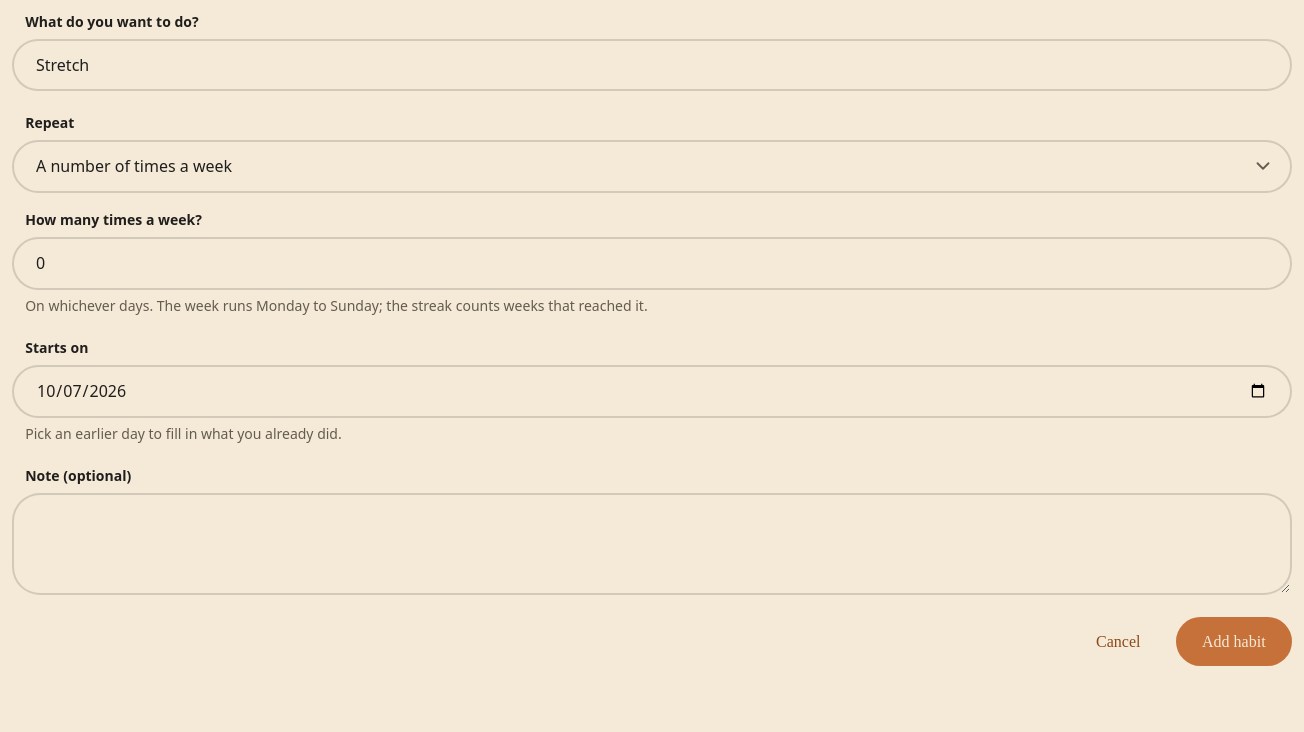
Test: HabitForm: the repeat rule › does not send timesPerWeek with How many times a week? and says why
Click the button "Add habit". click: coordinates (1234, 642)
box: [1176,617,1292,666]
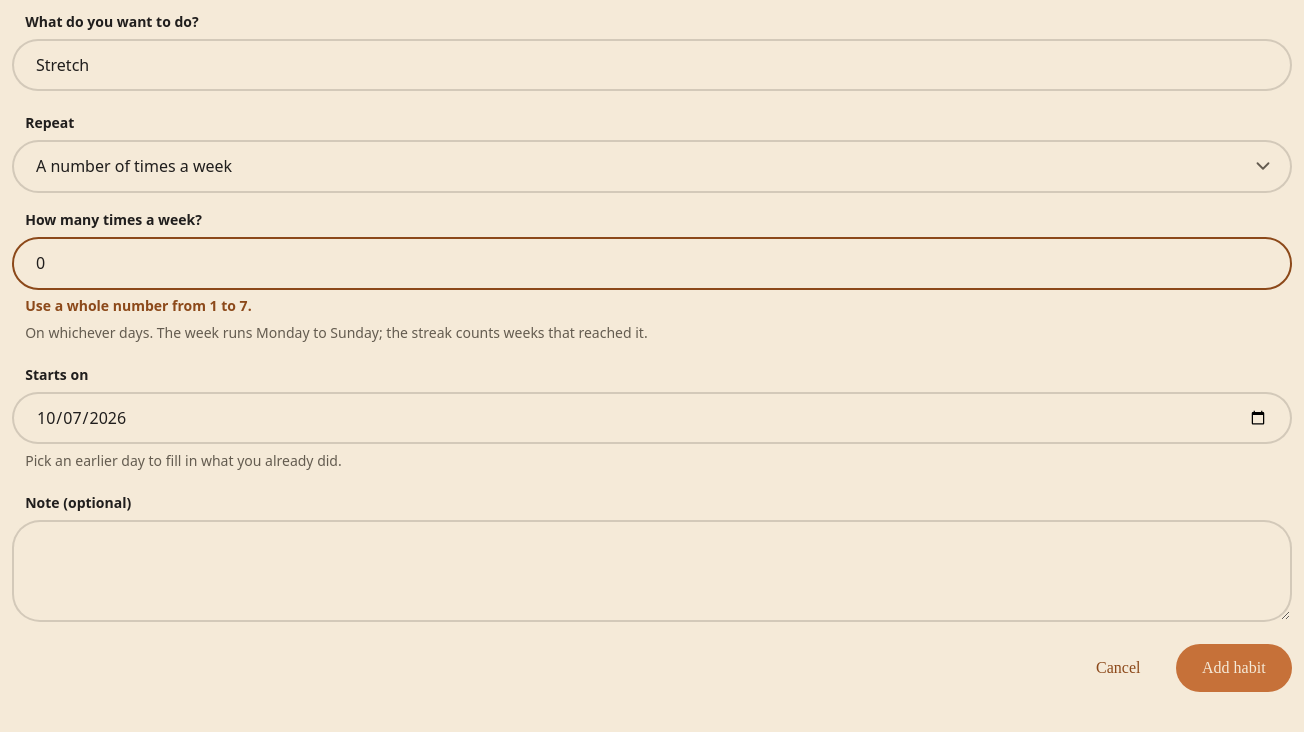
Result: the text "Use a whole number from 1 to 7." is shown at [25,296,252,315]
